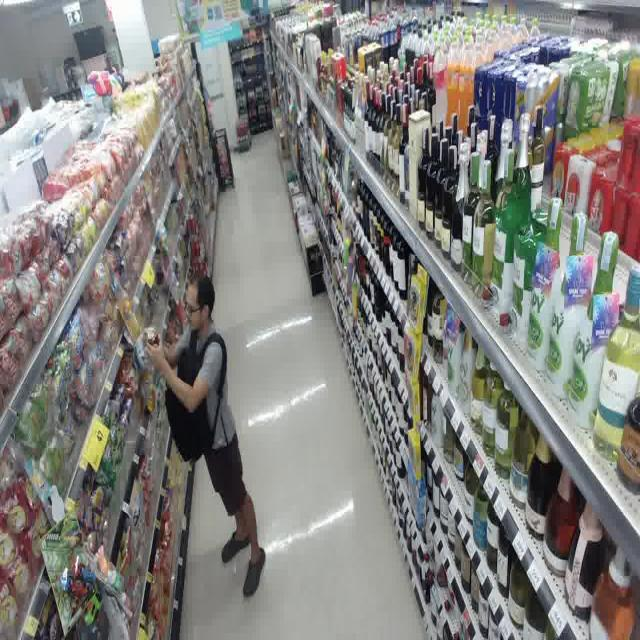pickup: (139, 257, 277, 611)
